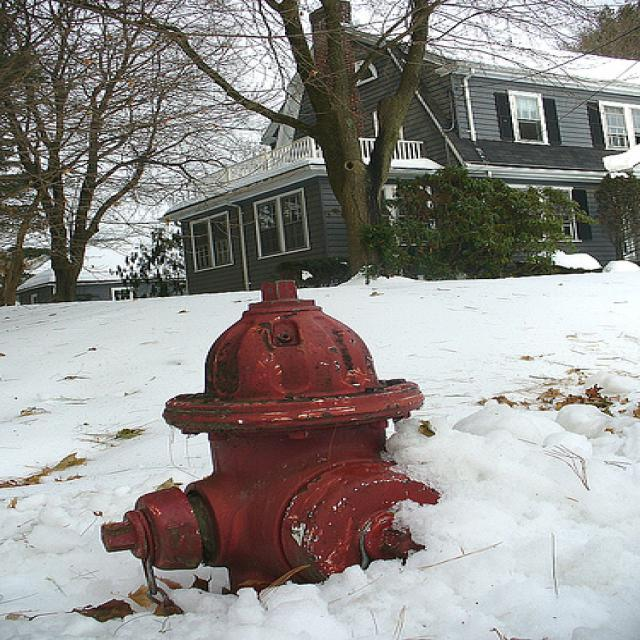fire_hydrant: (100, 280, 440, 592)
